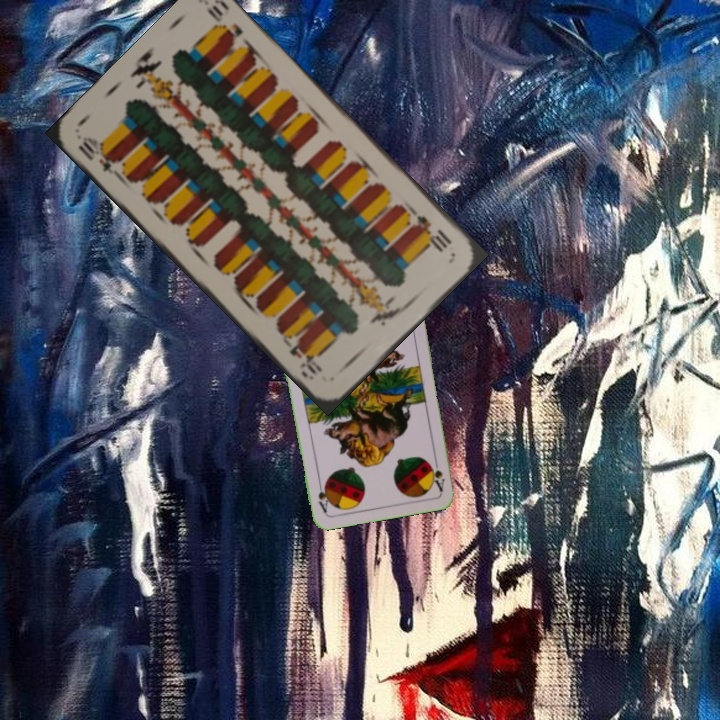E10: (73, 132, 122, 179), (410, 211, 455, 255)
SA: (426, 453, 447, 494)
